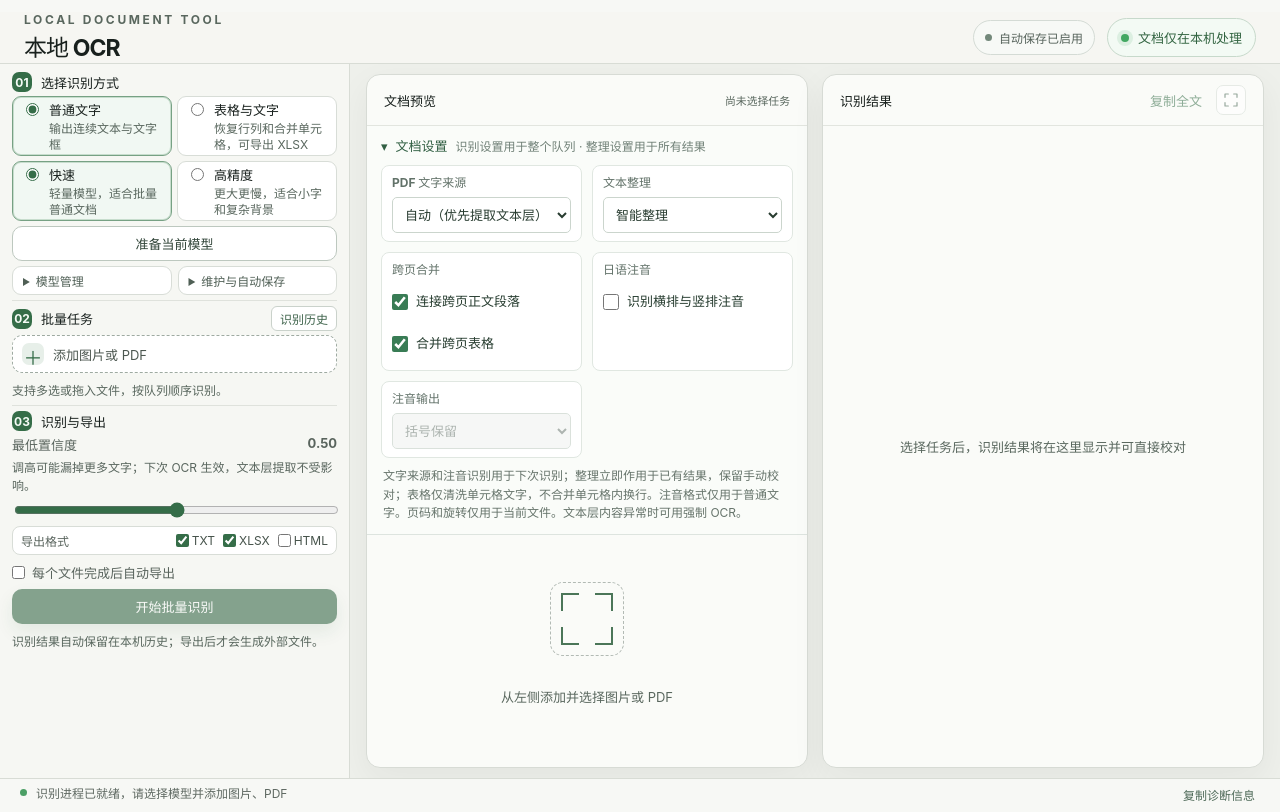
Test: 0.13 lazy model handoff › stops ordinary preparation without closing the application
Click the button "准备当前模型": {"x": 174, "y": 244} [12,226,337,261]
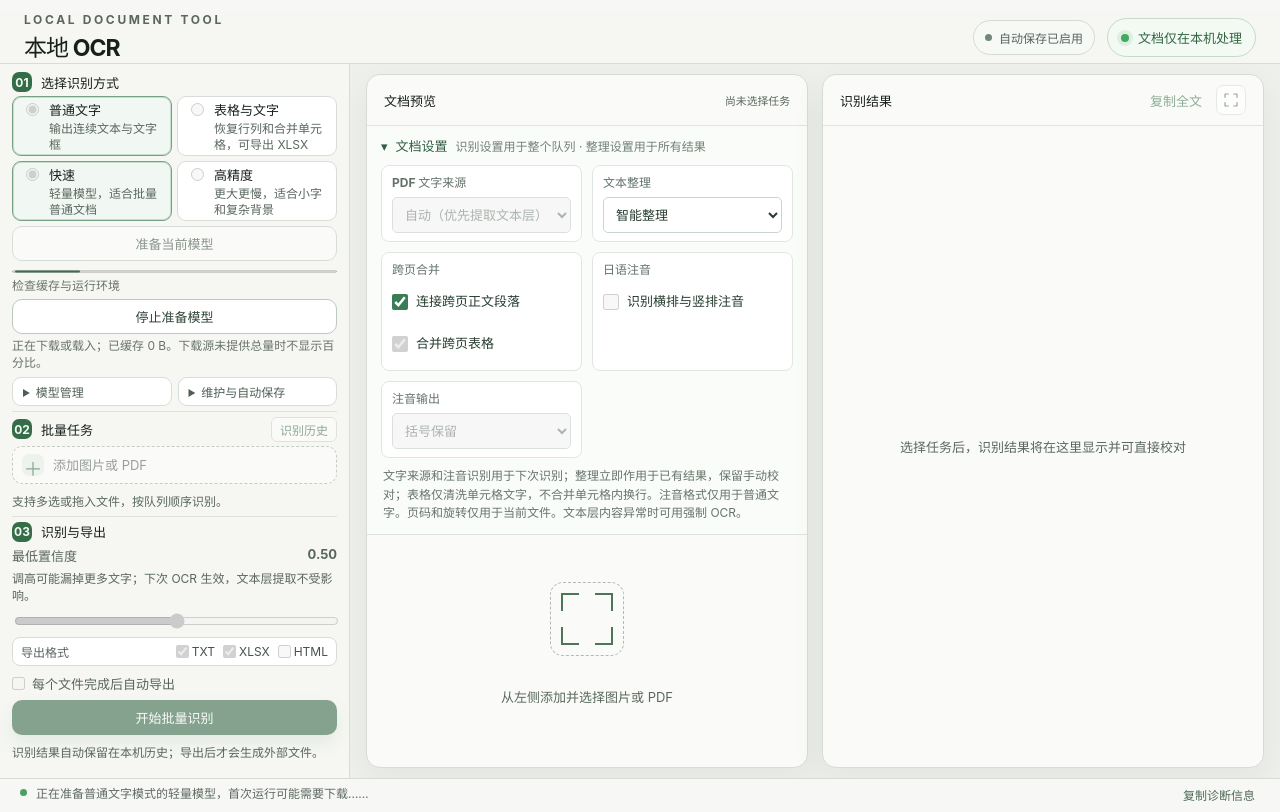
Click the button "停止准备模型": {"x": 174, "y": 317} [12,299,337,334]
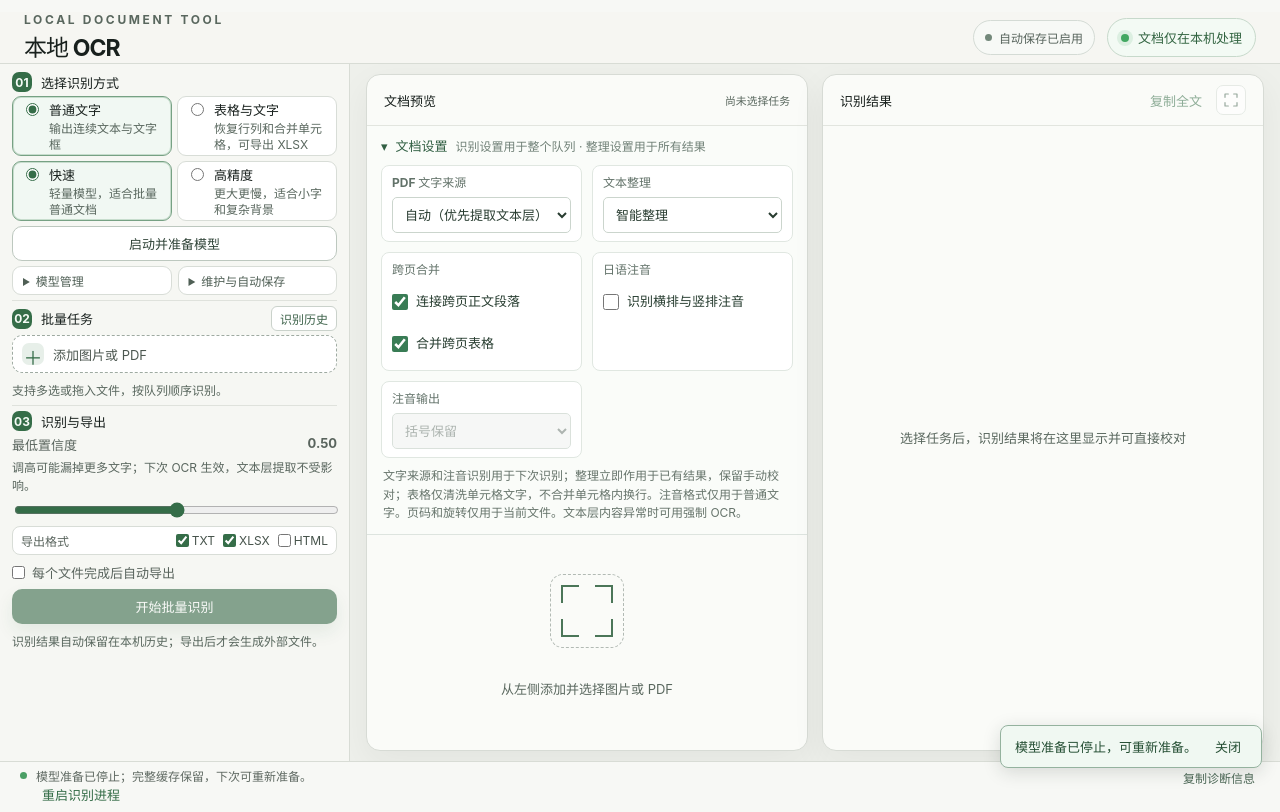
expect the message with class "action-feedback" shows "已停止": met, box [1000,725,1262,768]
expect the button "启动并准备模型" is enabled: met, box [12,226,337,261]
